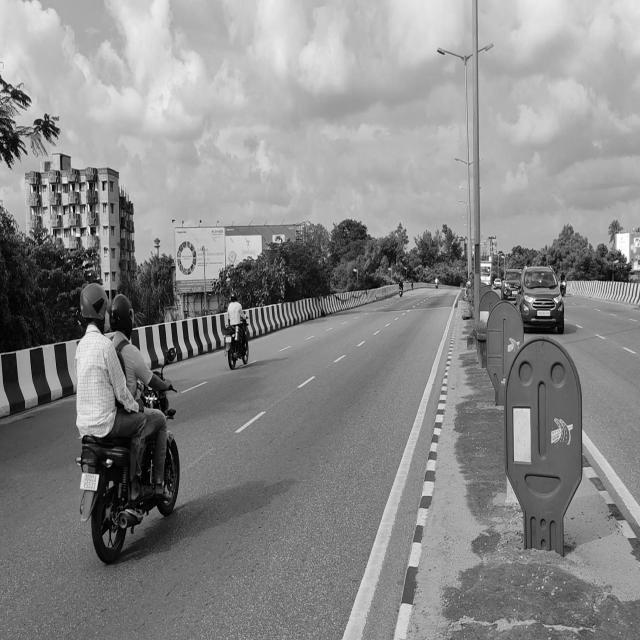bike: (76, 375, 188, 565), (216, 322, 258, 373)
car: (520, 266, 564, 328), (501, 267, 518, 296)
license-plate: (80, 470, 99, 494), (537, 306, 552, 316), (222, 332, 234, 344)
